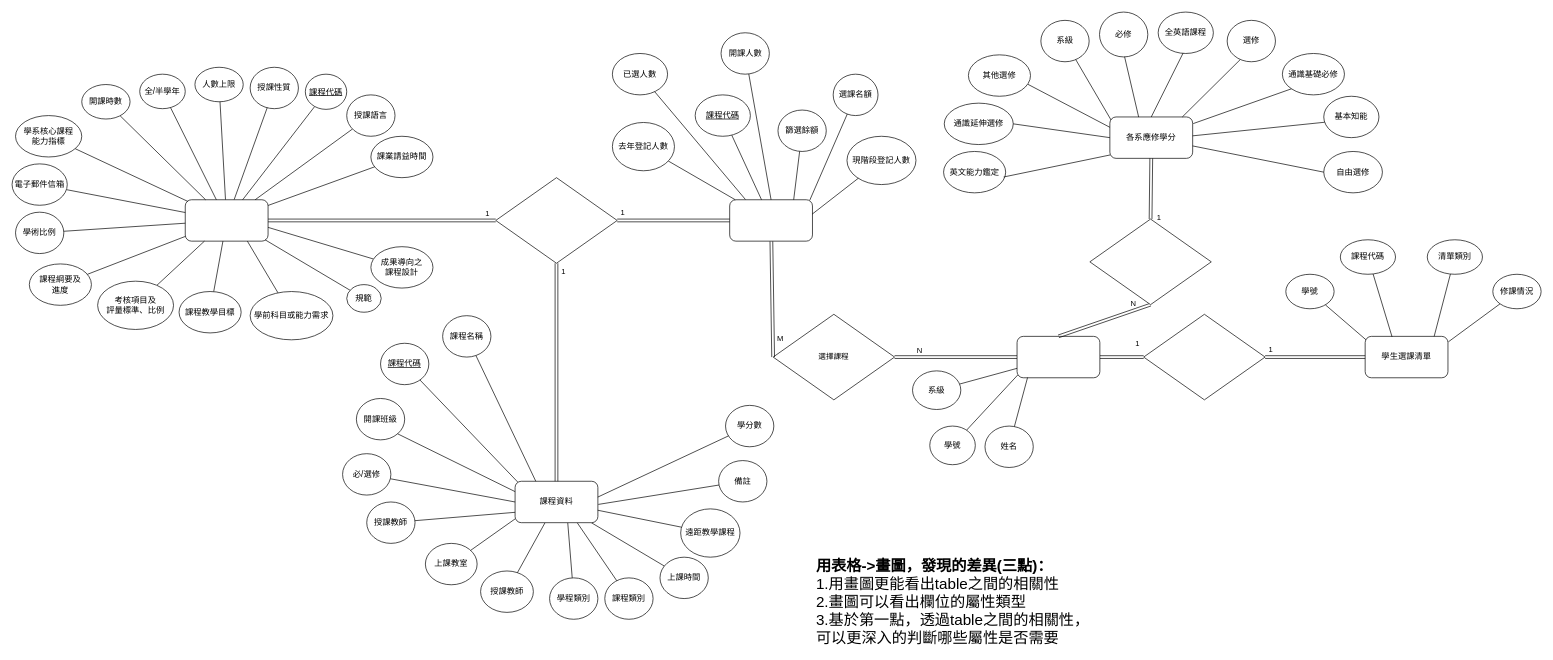
Some shapes in this 1553 by 660 pixel diagram are drawn without their labels. The box of each missing label's shape, as (x1, y1, x2, y2) in pixels:
學生: (1016, 336, 1100, 378)
擁有的各項清單: (1143, 314, 1265, 400)
畢業門檻: (1089, 218, 1211, 305)
課程資訊集: (495, 177, 617, 263)
課綱: (185, 199, 268, 241)
選課資料: (729, 199, 812, 241)
